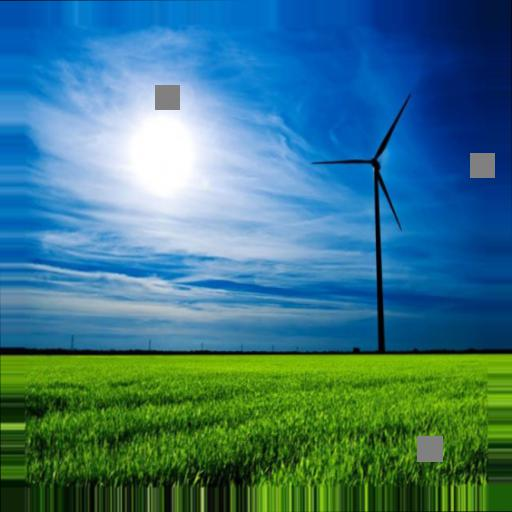wind turbine: (311, 94, 415, 352)
